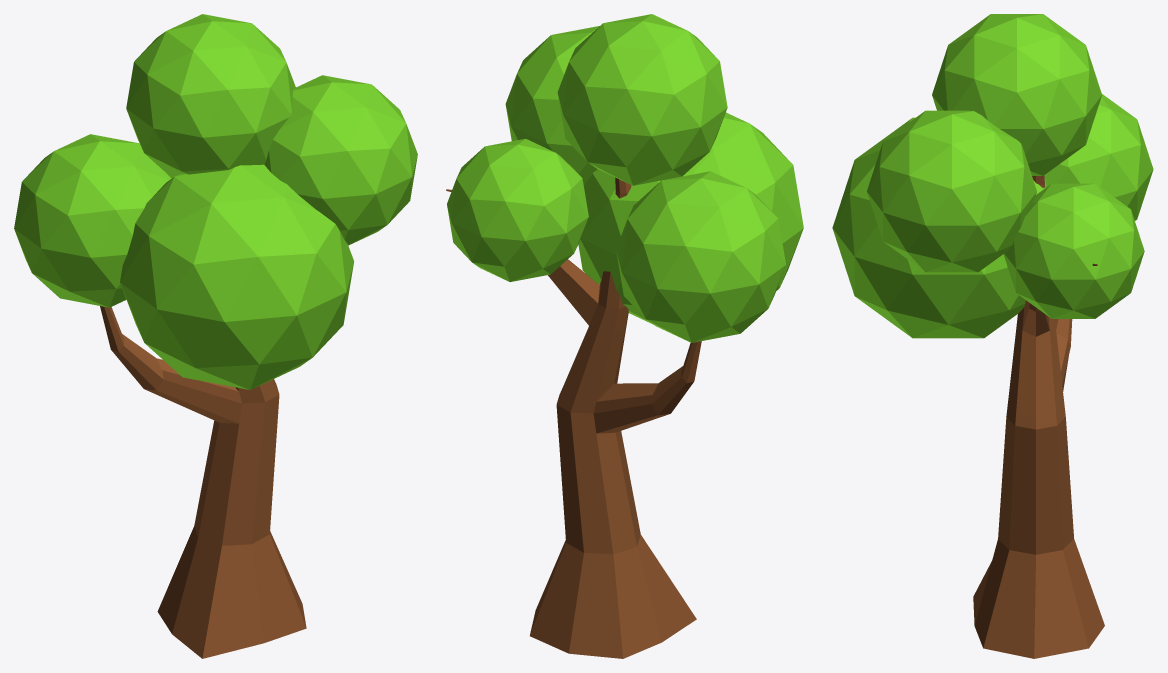
File: Tree2.fbx
3 views of the same model, side by side, from view 1: azimuth 30°, elevation 25°; view 2: azimuth 150°, elevation 25°; view 3: azimuth 270°, elevation 25° (orthographic). The views are drawn at different scales.
Parts seen in each view (by area): view 1: Икосфера.003, Куб, Икосфера.002, Икосфера.004, Икосфера.001; view 2: Куб, Икосфера.002, Икосфера.004, Икосфера, Икосфера.003, Икосфера.001; view 3: Куб, Икосфера.001, Икосфера.002, Икосфера.003, Икосфера, Икосфера.004.
Boxes of the visible parts, x1,y1,x2,y2 form: Икосфера.003: [120, 164, 354, 389]; Куб: [100, 306, 306, 658]; Икосфера.002: [126, 14, 295, 177]; Икосфера.004: [14, 134, 171, 307]; Икосфера.001: [264, 75, 417, 245]; Куб: [446, 177, 701, 658]; Икосфера.002: [557, 14, 727, 185]; Икосфера.004: [616, 171, 785, 342]; Икосфера: [447, 138, 588, 281]; Икосфера.003: [578, 112, 803, 324]; Икосфера.001: [505, 26, 599, 185]; Куб: [973, 175, 1104, 658]; Икосфера.001: [867, 110, 1036, 272]; Икосфера.002: [932, 14, 1101, 175]; Икосфера.003: [832, 117, 1048, 338]; Икосфера: [1003, 183, 1144, 318]; Икосфера.004: [1045, 94, 1153, 220].
Size of the model in its own units: 735 by 1360 by 666.
